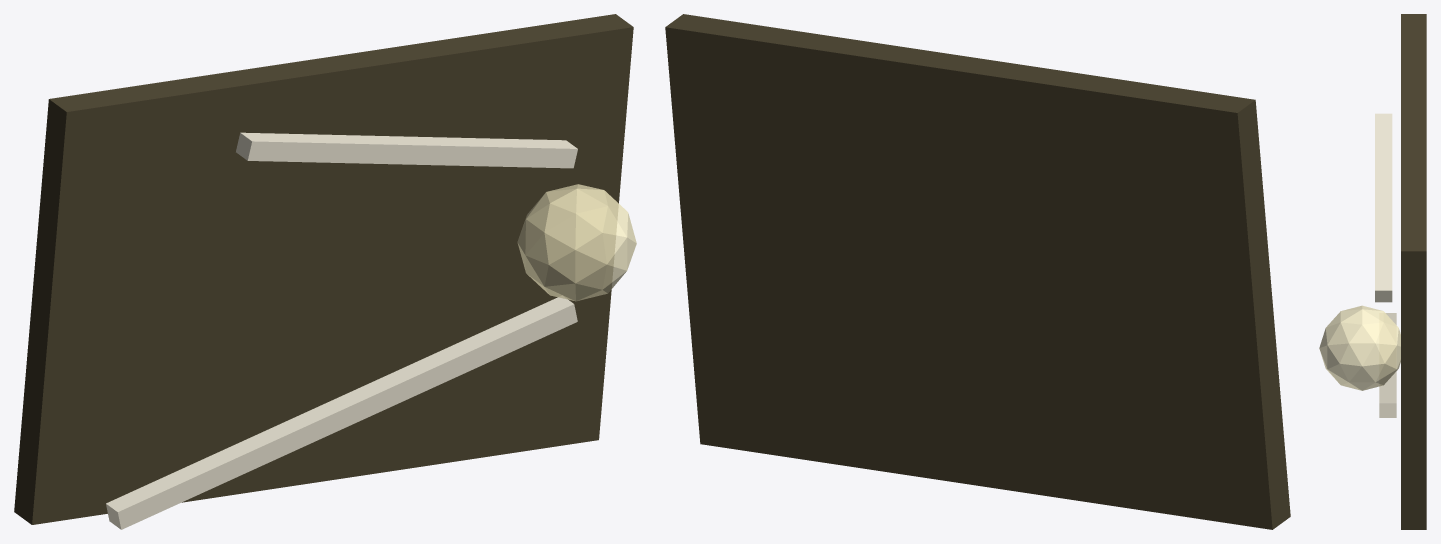
Rendered from 02_world_prop_polish.glb.
3 renders of one model, left to right at view 1: azimuth 30°, elevation 25°; view 2: azimuth 150°, elevation 25°; view 3: azimuth 270°, elevation 25°, orthographic. The views are drawn at different scales.
Parts seen in each view (by area): view 1: object_overlay_plate, edge_wear_a, glow_socket, edge_wear_b; view 2: object_overlay_plate; view 3: object_overlay_plate, glow_socket, edge_wear_b, edge_wear_a.
Boxes of the visible parts, box(x1,y1,x2,y2) form: object_overlay_plate: box(14, 14, 633, 524); edge_wear_a: box(106, 296, 577, 529); glow_socket: box(517, 184, 636, 301); edge_wear_b: box(236, 132, 577, 168); object_overlay_plate: box(665, 14, 1290, 529); object_overlay_plate: box(1401, 14, 1426, 529); glow_socket: box(1319, 305, 1400, 390); edge_wear_b: box(1375, 113, 1392, 302); edge_wear_a: box(1379, 313, 1396, 417).
Size of the model in its own units: 1.16 by 0.8455 by 0.25.
